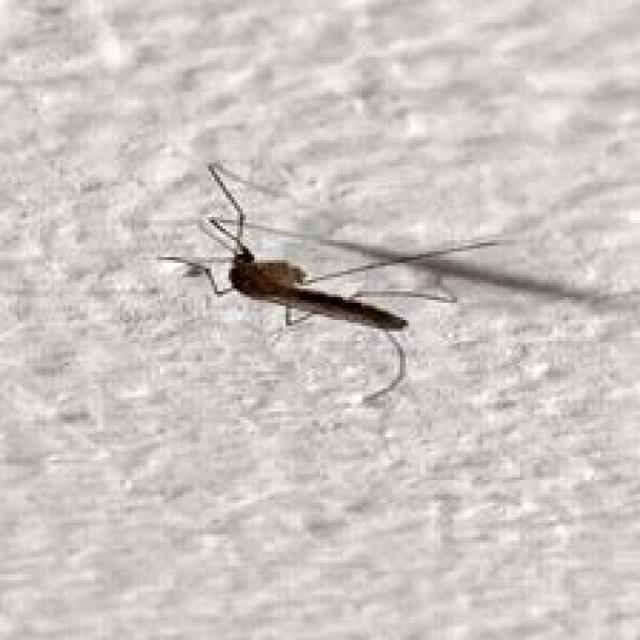Culex: (156, 160, 638, 406)
